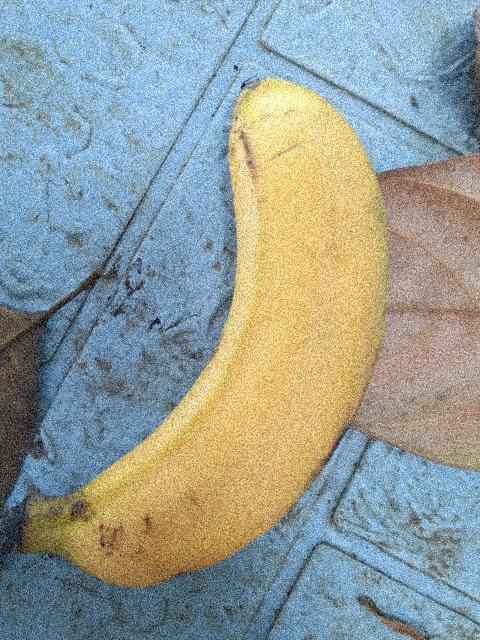freshripe: (58, 41, 408, 639)
